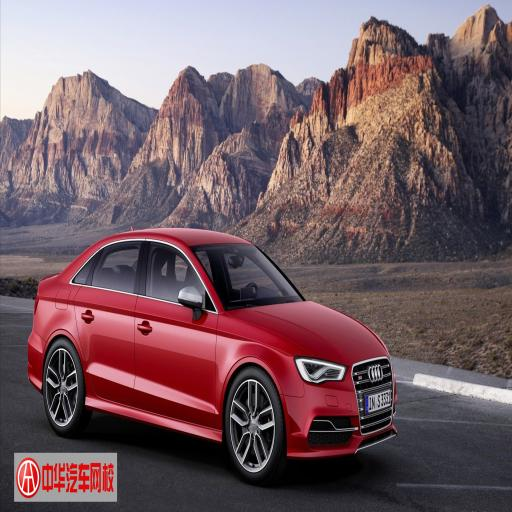Sedan-sDLz: (28, 229, 397, 481)
